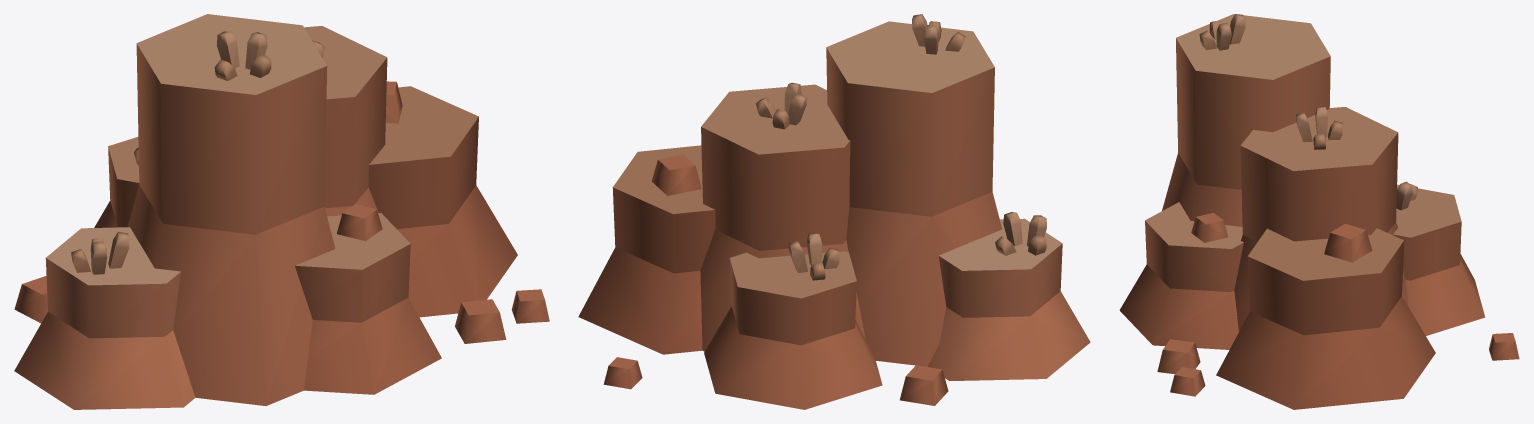
File: pirate_rocks_sand_a.glb
The picture shows the model from 3 angles, left to right: view 1: azimuth 30°, elevation 25°; view 2: azimuth 150°, elevation 25°; view 3: azimuth 270°, elevation 25°; orthographic projection. The views are drawn at different scales.
Parts seen in each view (by area): view 1: pirate_rocks_sand_a; view 2: pirate_rocks_sand_a; view 3: pirate_rocks_sand_a.
Boxes of the visible parts, bbox=[...] form: pirate_rocks_sand_a: bbox=[14, 14, 549, 409]; pirate_rocks_sand_a: bbox=[578, 14, 1090, 409]; pirate_rocks_sand_a: bbox=[1119, 14, 1519, 409].
Bounding box in the file's own units: 5.11 × 3.21 × 4.39.
